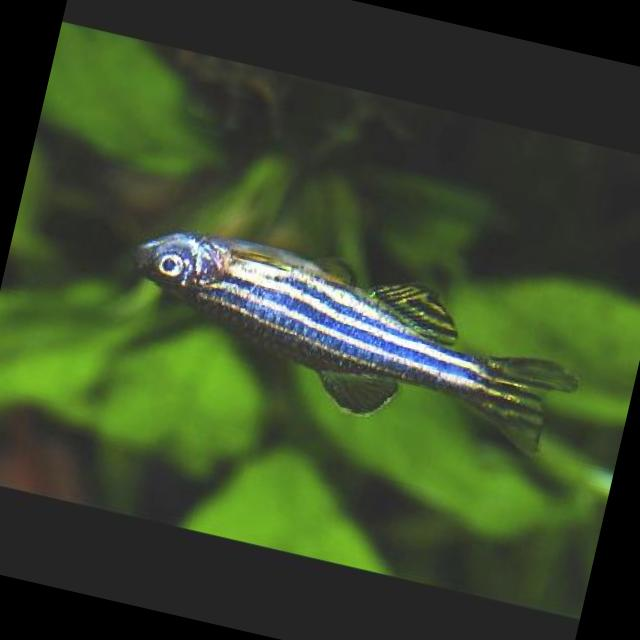ZebraFish: (106, 216, 594, 466)
